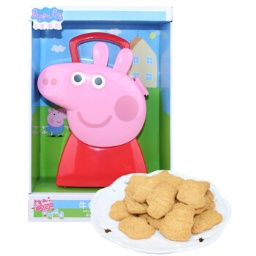Peppa: (38, 41, 154, 188)
